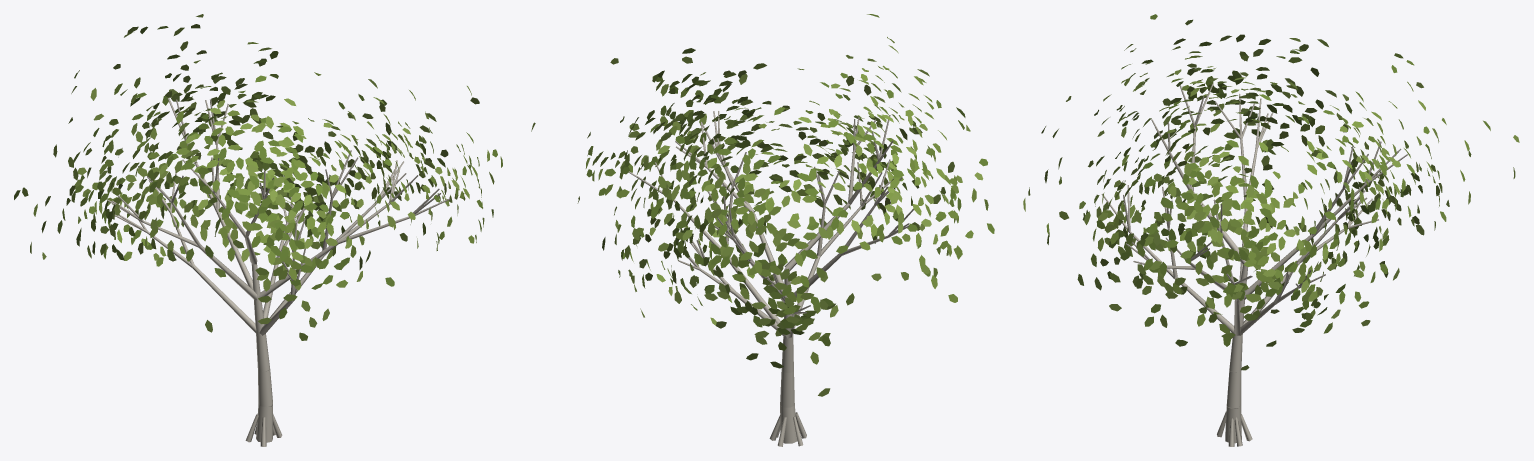
The model's file is birch_0.glb.
The picture shows the model from 3 angles, left to right: view 1: azimuth 30°, elevation 25°; view 2: azimuth 150°, elevation 25°; view 3: azimuth 270°, elevation 25°; orthographic projection.
Visible parts, largest first — view 1: birch_0_LOD0; view 2: birch_0_LOD0; view 3: birch_0_LOD0.
Part boxes in pixels (<box>): birch_0_LOD0: <box>14,14,502,446</box>; birch_0_LOD0: <box>531,14,994,446</box>; birch_0_LOD0: <box>1023,14,1519,446</box>.
Size of what is drawn, in the model's own units: 2.63 by 2.28 by 2.54.
